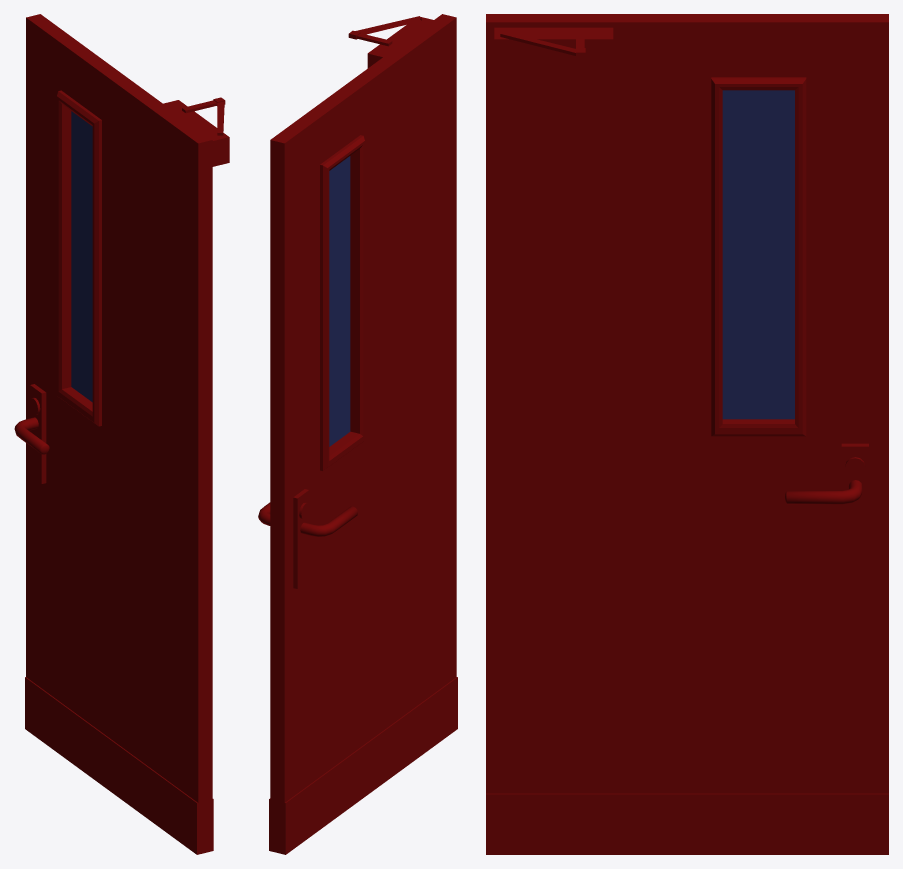
Rendered from GG_DOOR_02.FBX.
3 renders of one model, left to right at view 1: azimuth 30°, elevation 25°; view 2: azimuth 150°, elevation 25°; view 3: azimuth 270°, elevation 25°, orthographic. The views are drawn at different scales.
Visible parts, largest first — view 1: GG_DOOR001; view 2: GG_DOOR001; view 3: GG_DOOR001.
Part boxes in pixels (x1,y1,x2,y2): GG_DOOR001: (14, 14, 229, 854); GG_DOOR001: (258, 14, 457, 854); GG_DOOR001: (486, 14, 888, 854).
Bounding box in the file's own units: 32.04 × 228 × 100.
